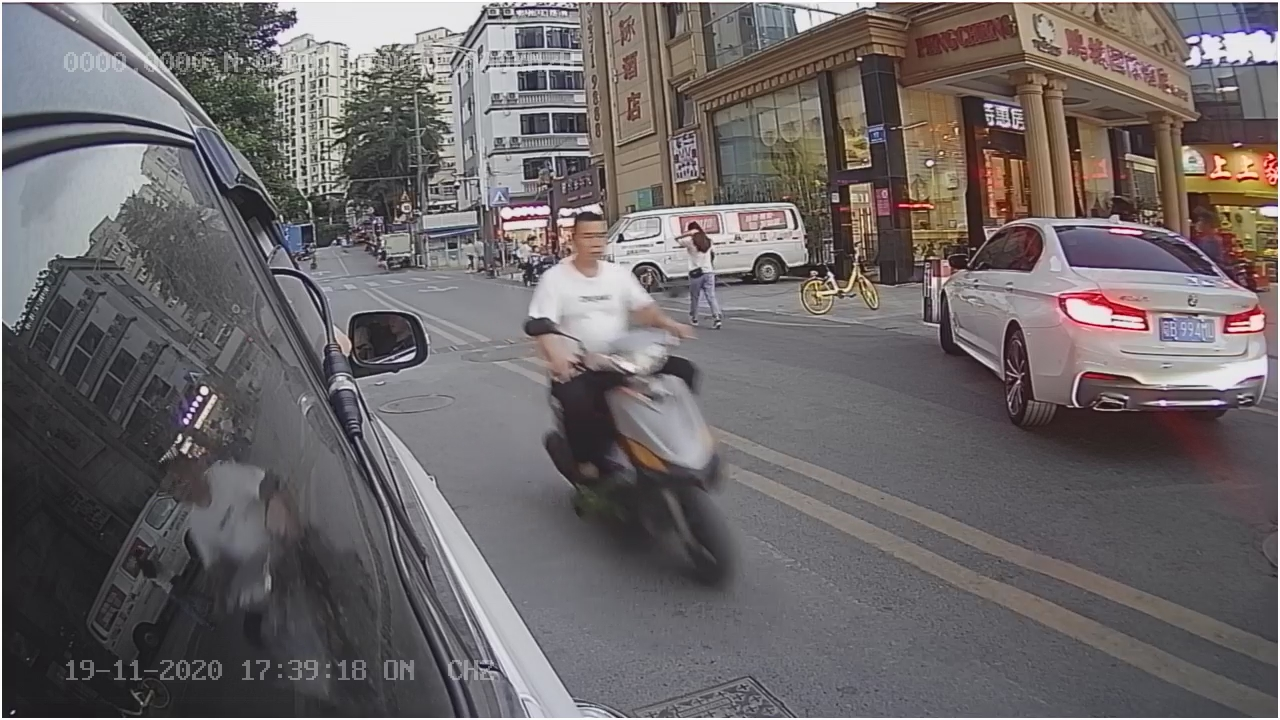person: (531, 213, 657, 382)
